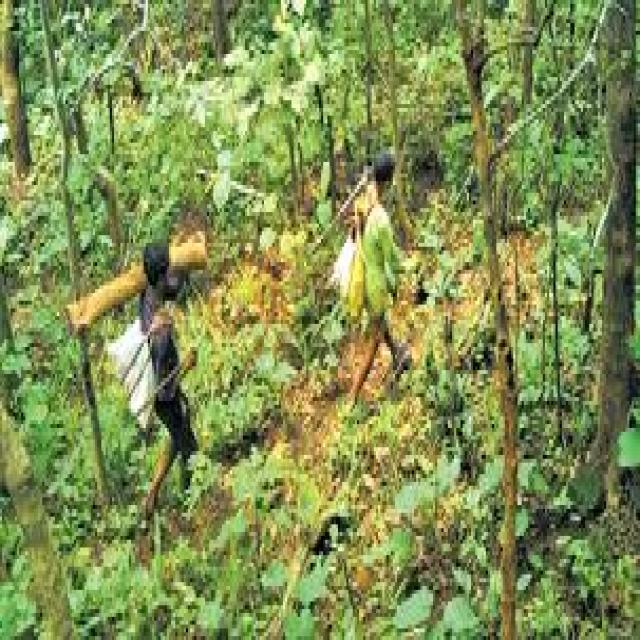poacher: (125, 195, 227, 521), (316, 149, 433, 398)
weapon: (285, 123, 367, 304)
